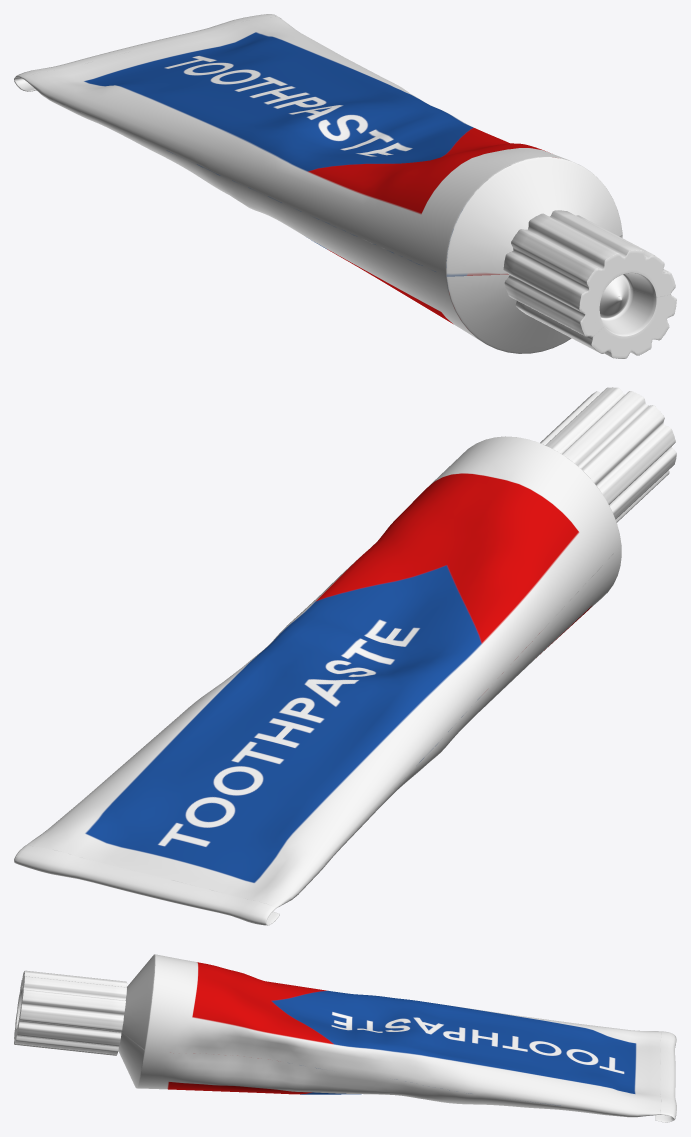
The picture shows the model from 3 angles, top to bottom: view 1: azimuth 30°, elevation 25°; view 2: azimuth 150°, elevation 25°; view 3: azimuth 270°, elevation 25°; orthographic projection. The views are drawn at different scales.
Visible parts, largest first — view 1: toothpaste_container_1; view 2: toothpaste_container_1; view 3: toothpaste_container_1.
Part boxes in pixels (x1,y1,x2,y2): toothpaste_container_1: [14, 14, 676, 358]; toothpaste_container_1: [14, 387, 676, 925]; toothpaste_container_1: [14, 954, 676, 1122].
Size of the model in its own units: 0.5944 by 0.4111 by 2.
Materials: 1 (1 with a texture image).
